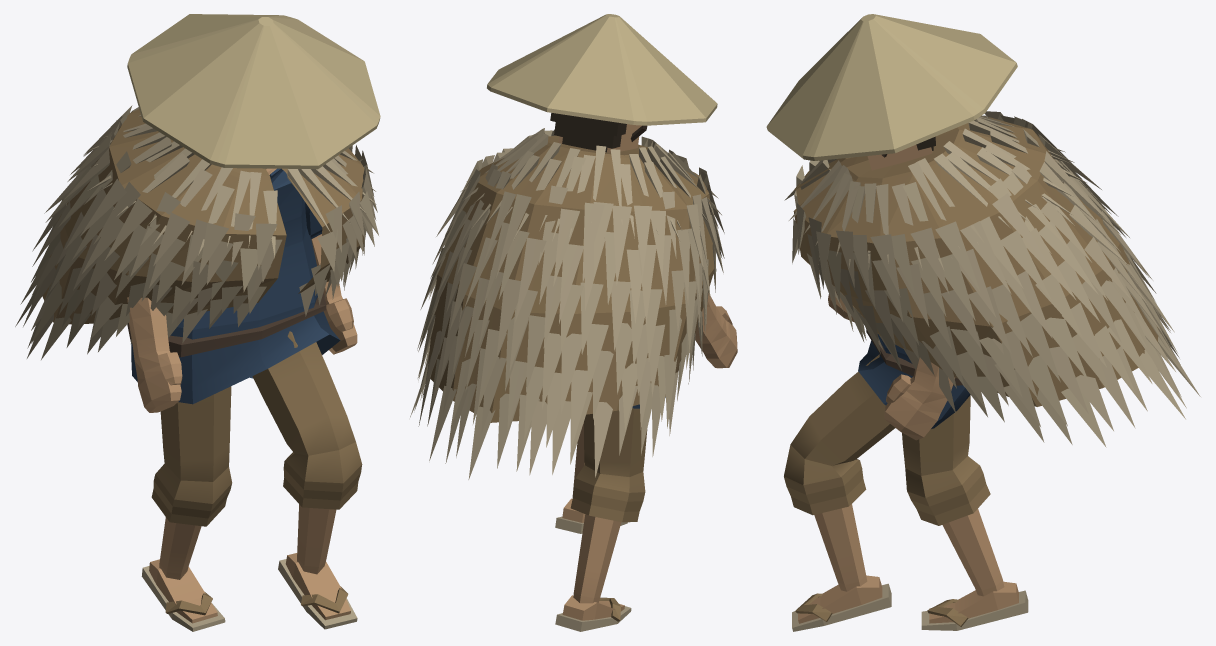
The model's file is farmer-363820__walk7.glb.
The picture shows the model from 3 angles, left to right: view 1: azimuth 30°, elevation 25°; view 2: azimuth 150°, elevation 25°; view 3: azimuth 270°, elevation 25°; orthographic projection. The views are drawn at different scales.
Parts seen in each view (by area): view 1: farmer-363820__walk7; view 2: farmer-363820__walk7; view 3: farmer-363820__walk7.
Part boxes in pixels (x1=…): farmer-363820__walk7: x1=15, y1=14, x2=380, y2=631; farmer-363820__walk7: x1=410, y1=14, x2=737, y2=631; farmer-363820__walk7: x1=766, y1=14, x2=1200, y2=631.
Bounding box in the file's own units: 0.8715 × 1.84 × 1.16.
